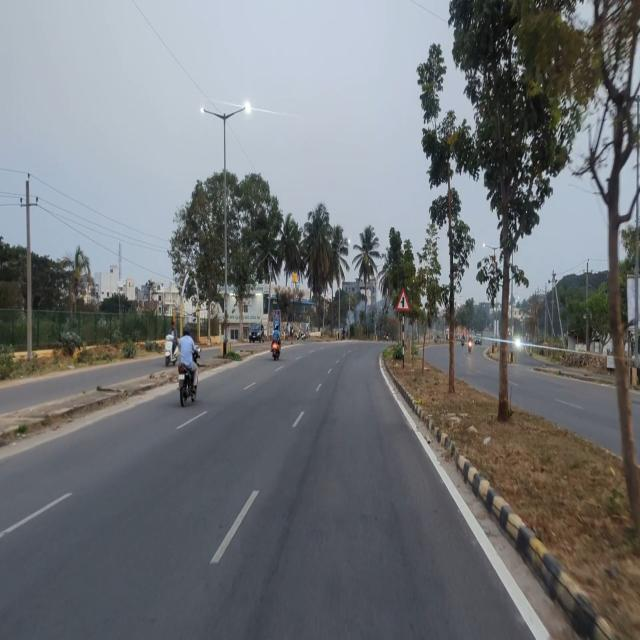bien_cam: (395, 287, 411, 313)
